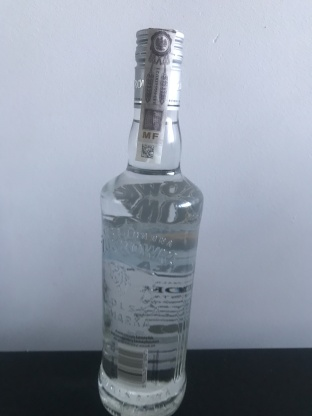nakretka: (131, 22, 186, 114)
